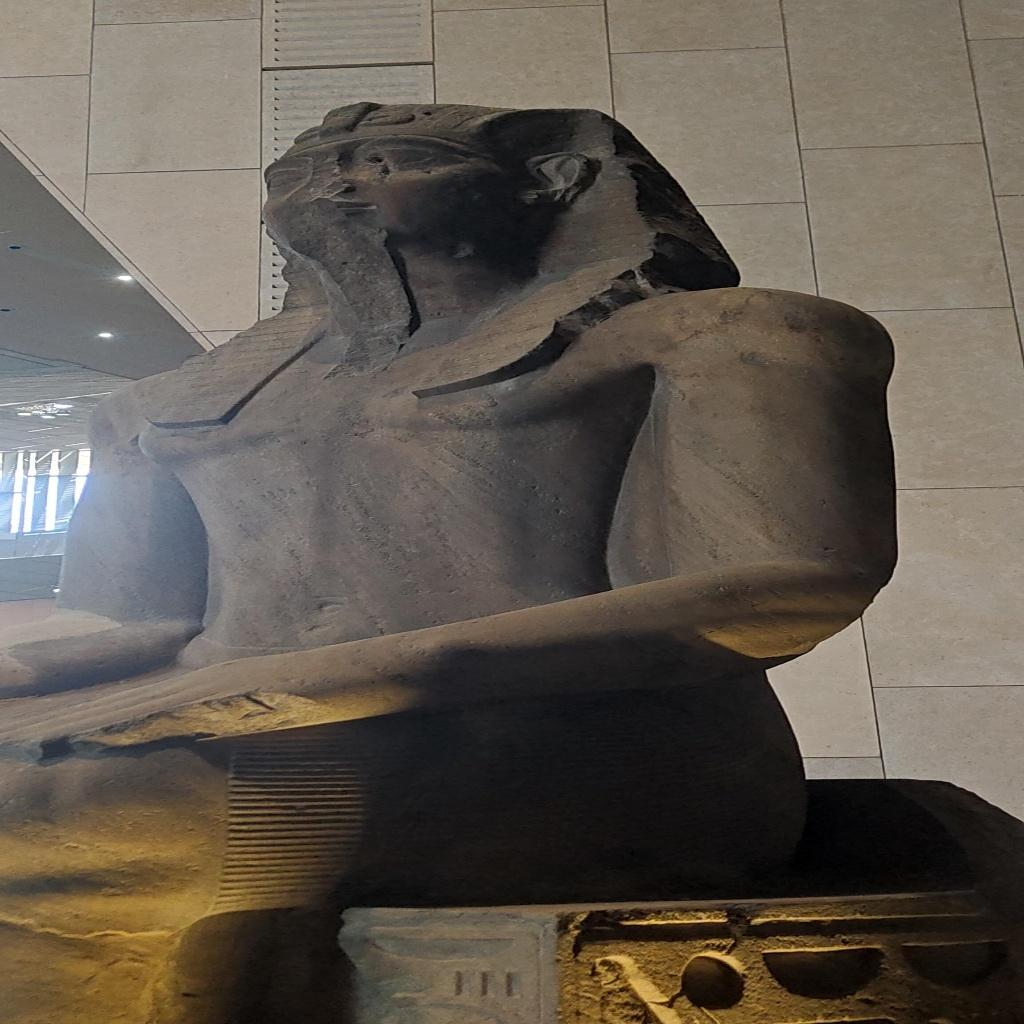Colossal Statue of Middle Kingdom King: (0, 95, 910, 1024)
